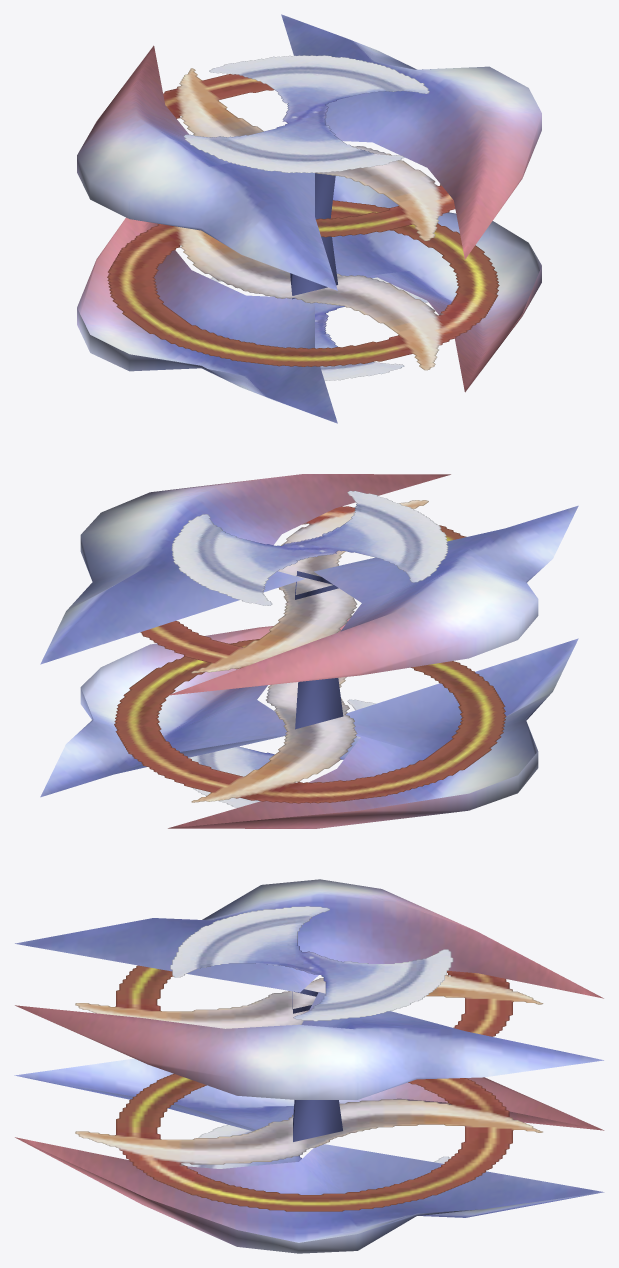
File: item_weayoyaquabr.glb
The picture shows the model from 3 angles, top to bottom: view 1: azimuth 30°, elevation 25°; view 2: azimuth 150°, elevation 25°; view 3: azimuth 270°, elevation 25°; orthographic projection.
Visible parts, largest first — view 1: item_0; view 2: item_0; view 3: item_0.
Boxes of the visible parts, left/top/right/bottom form: item_0: left=77, top=14, right=541, bottom=423; item_0: left=40, top=474, right=578, bottom=828; item_0: left=14, top=879, right=604, bottom=1253.
Size of the model in its own units: 0.4752 by 0.2323 by 0.5728.
1 material, 1 textured.
